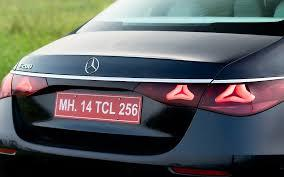mercedes: (85, 58, 99, 73)
